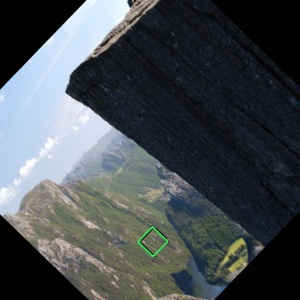square: (137, 226, 170, 258)
